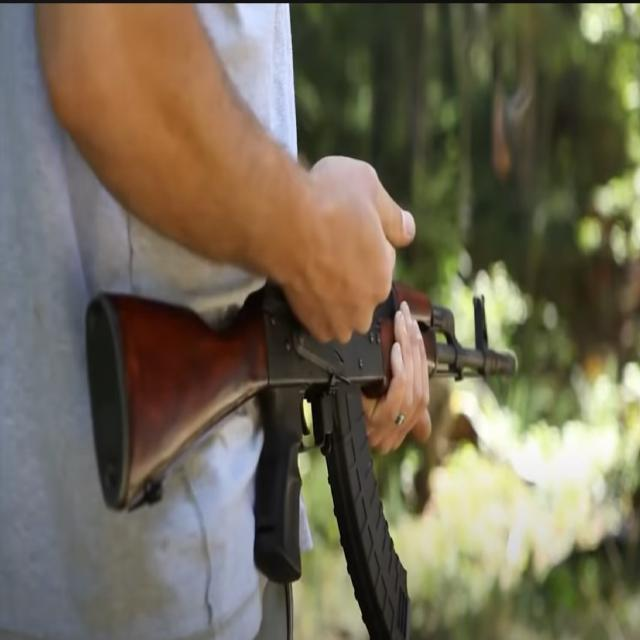ak: (74, 225, 520, 640)
